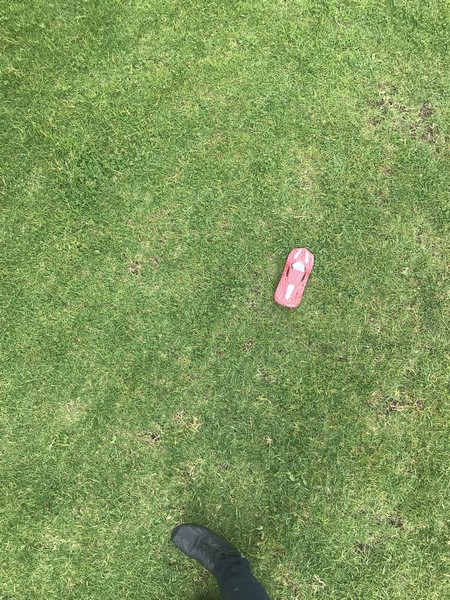RC: (272, 247, 317, 309)
